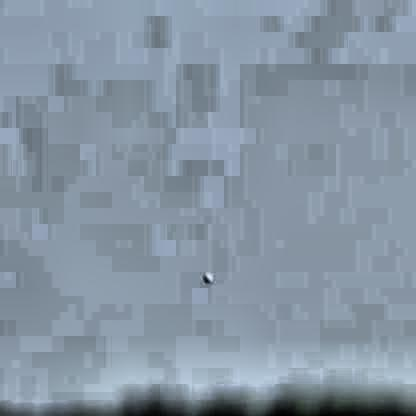golfball: (201, 270, 212, 281)
